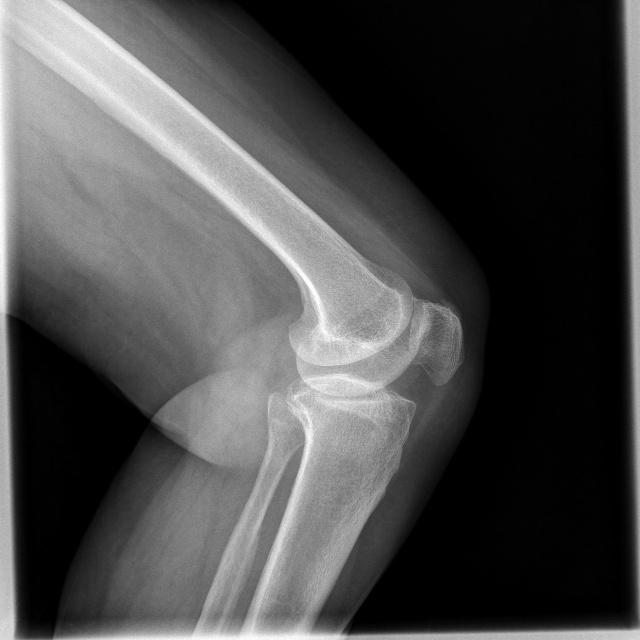Knee: (281, 295, 462, 441)
